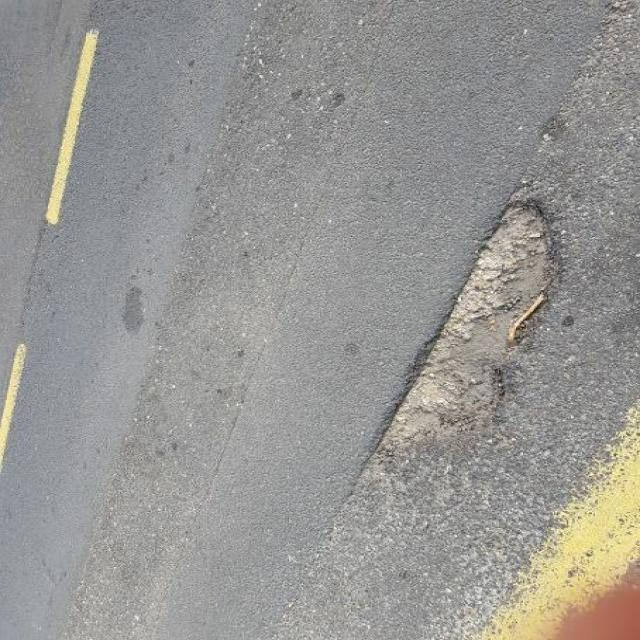pothole: (362, 188, 572, 468)
